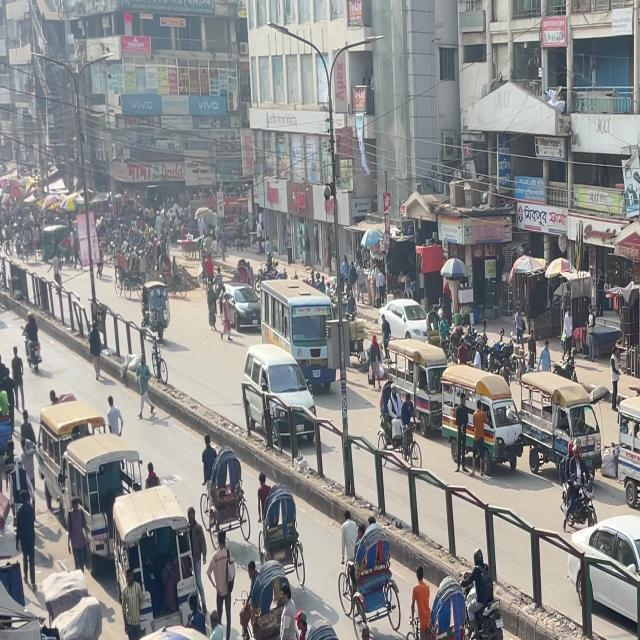car: (566, 510, 640, 640), (240, 338, 320, 458), (431, 362, 535, 441), (378, 298, 440, 365)
motorbike: (193, 429, 255, 554), (252, 469, 309, 578), (451, 541, 509, 640), (552, 465, 598, 535), (248, 461, 273, 530)
van: (100, 484, 220, 640), (62, 426, 146, 565), (259, 277, 338, 400), (520, 370, 604, 477), (37, 392, 106, 520), (614, 391, 640, 510), (622, 429, 640, 574)
